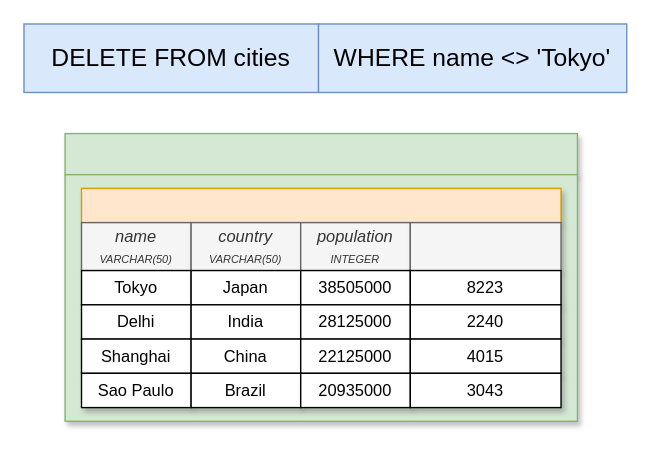
This 651x455 diagram has some shape labels left out. The shapes that lost their labels are listed below. From the top down, each one's centre as x and y in pixels, then its label:
At [322,155]: "Database".
At [322,207]: "cities".
At [486,248]: "area INTEGER".
